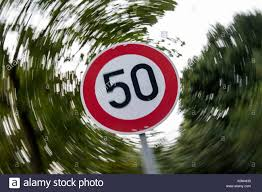Speed_limit_50km: (81, 42, 181, 133)
